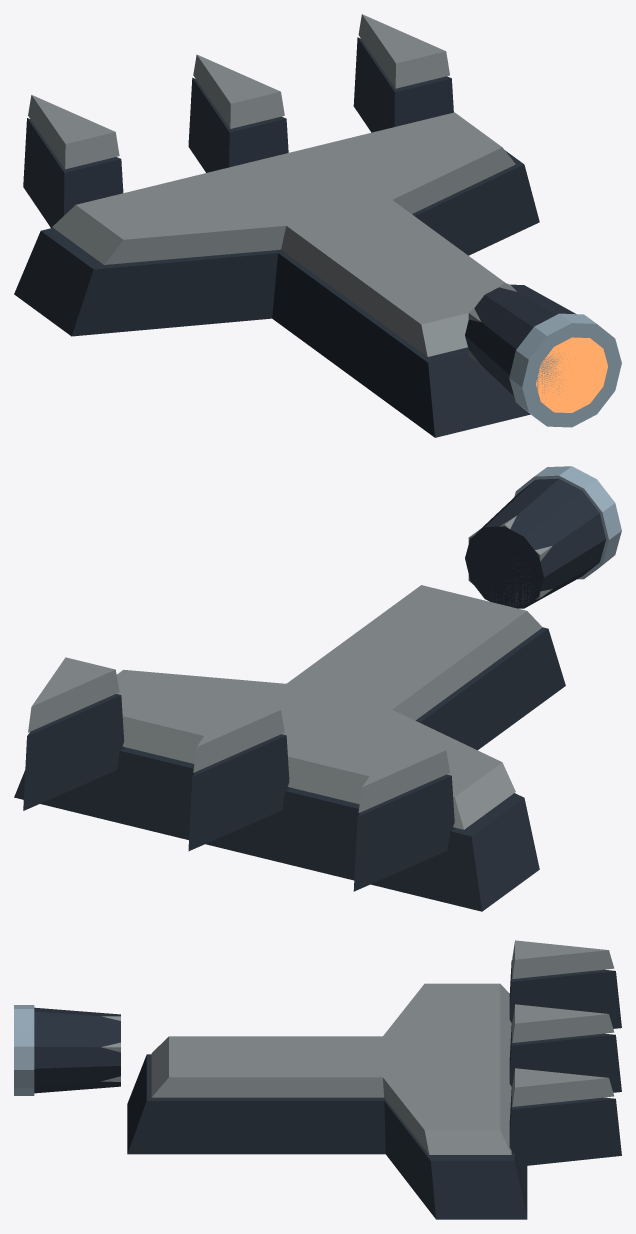
The model's file is c3_kamikaze.glb.
3 views of the same model, one above another, from view 1: azimuth 30°, elevation 25°; view 2: azimuth 150°, elevation 25°; view 3: azimuth 270°, elevation 25° (orthographic). The views are drawn at different scales.
Parts seen in each view (by area): view 1: kamikaze / Armor, kamikaze / Chassis, kamikaze / Titanium, kamikaze / Energy; view 2: kamikaze / Chassis, kamikaze / Armor, kamikaze / Titanium; view 3: kamikaze / Chassis, kamikaze / Armor, kamikaze / Titanium.
Part boxes in pixels (<box>): kamikaze / Armor: <box>28,14,516,364</box>; kamikaze / Chassis: <box>14,37,576,437</box>; kamikaze / Titanium: <box>509,313,621,427</box>; kamikaze / Energy: <box>536,337,607,412</box>; kamikaze / Chassis: <box>14,478,605,911</box>; kamikaze / Armor: <box>28,515,552,829</box>; kamikaze / Titanium: <box>514,466,621,579</box>; kamikaze / Chassis: <box>34,960,621,1219</box>; kamikaze / Armor: <box>101,940,614,1154</box>; kamikaze / Titanium: <box>14,1005,34,1095</box>.
Size of the model in its own units: 1.36 by 0.42 by 1.93.
